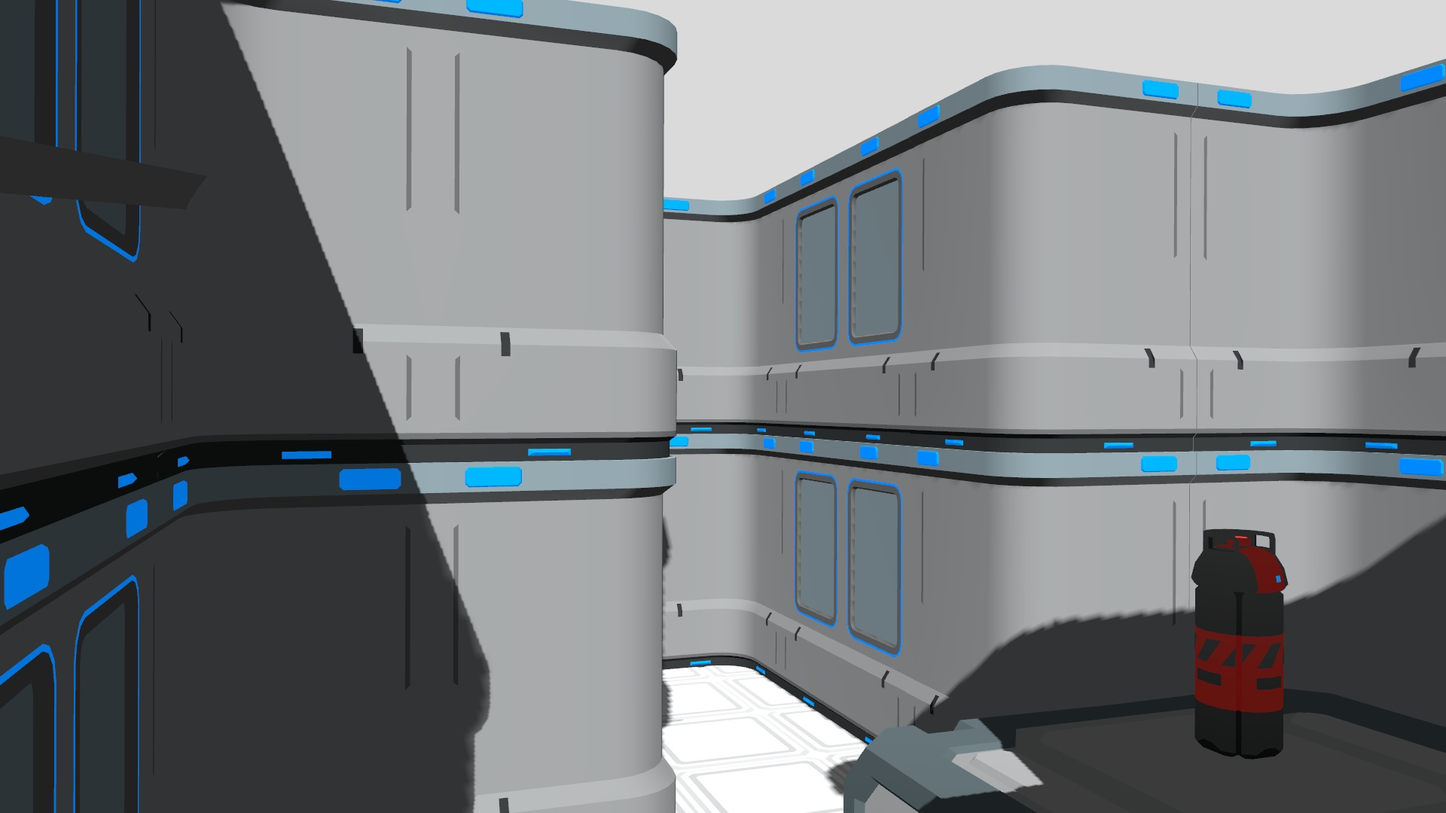red_barrel: (1189, 523, 1291, 762)
